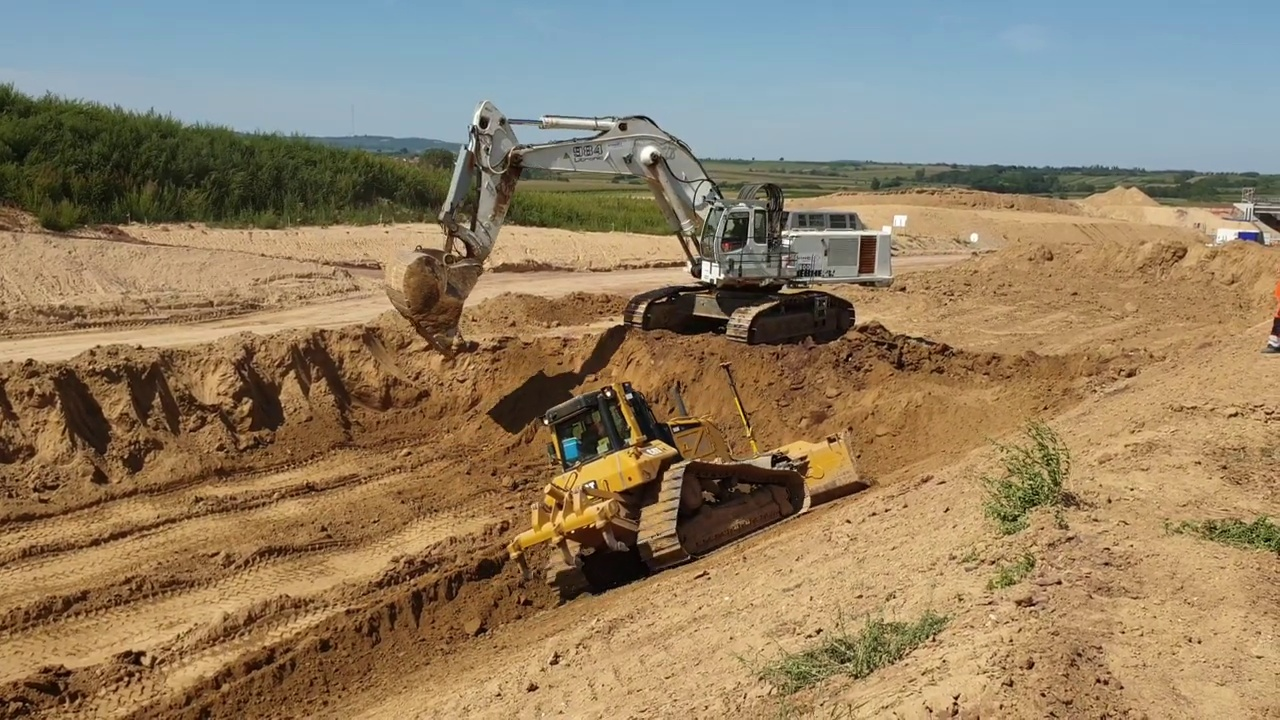bulldozer: (504, 355, 880, 606)
excavator: (380, 92, 897, 362)
